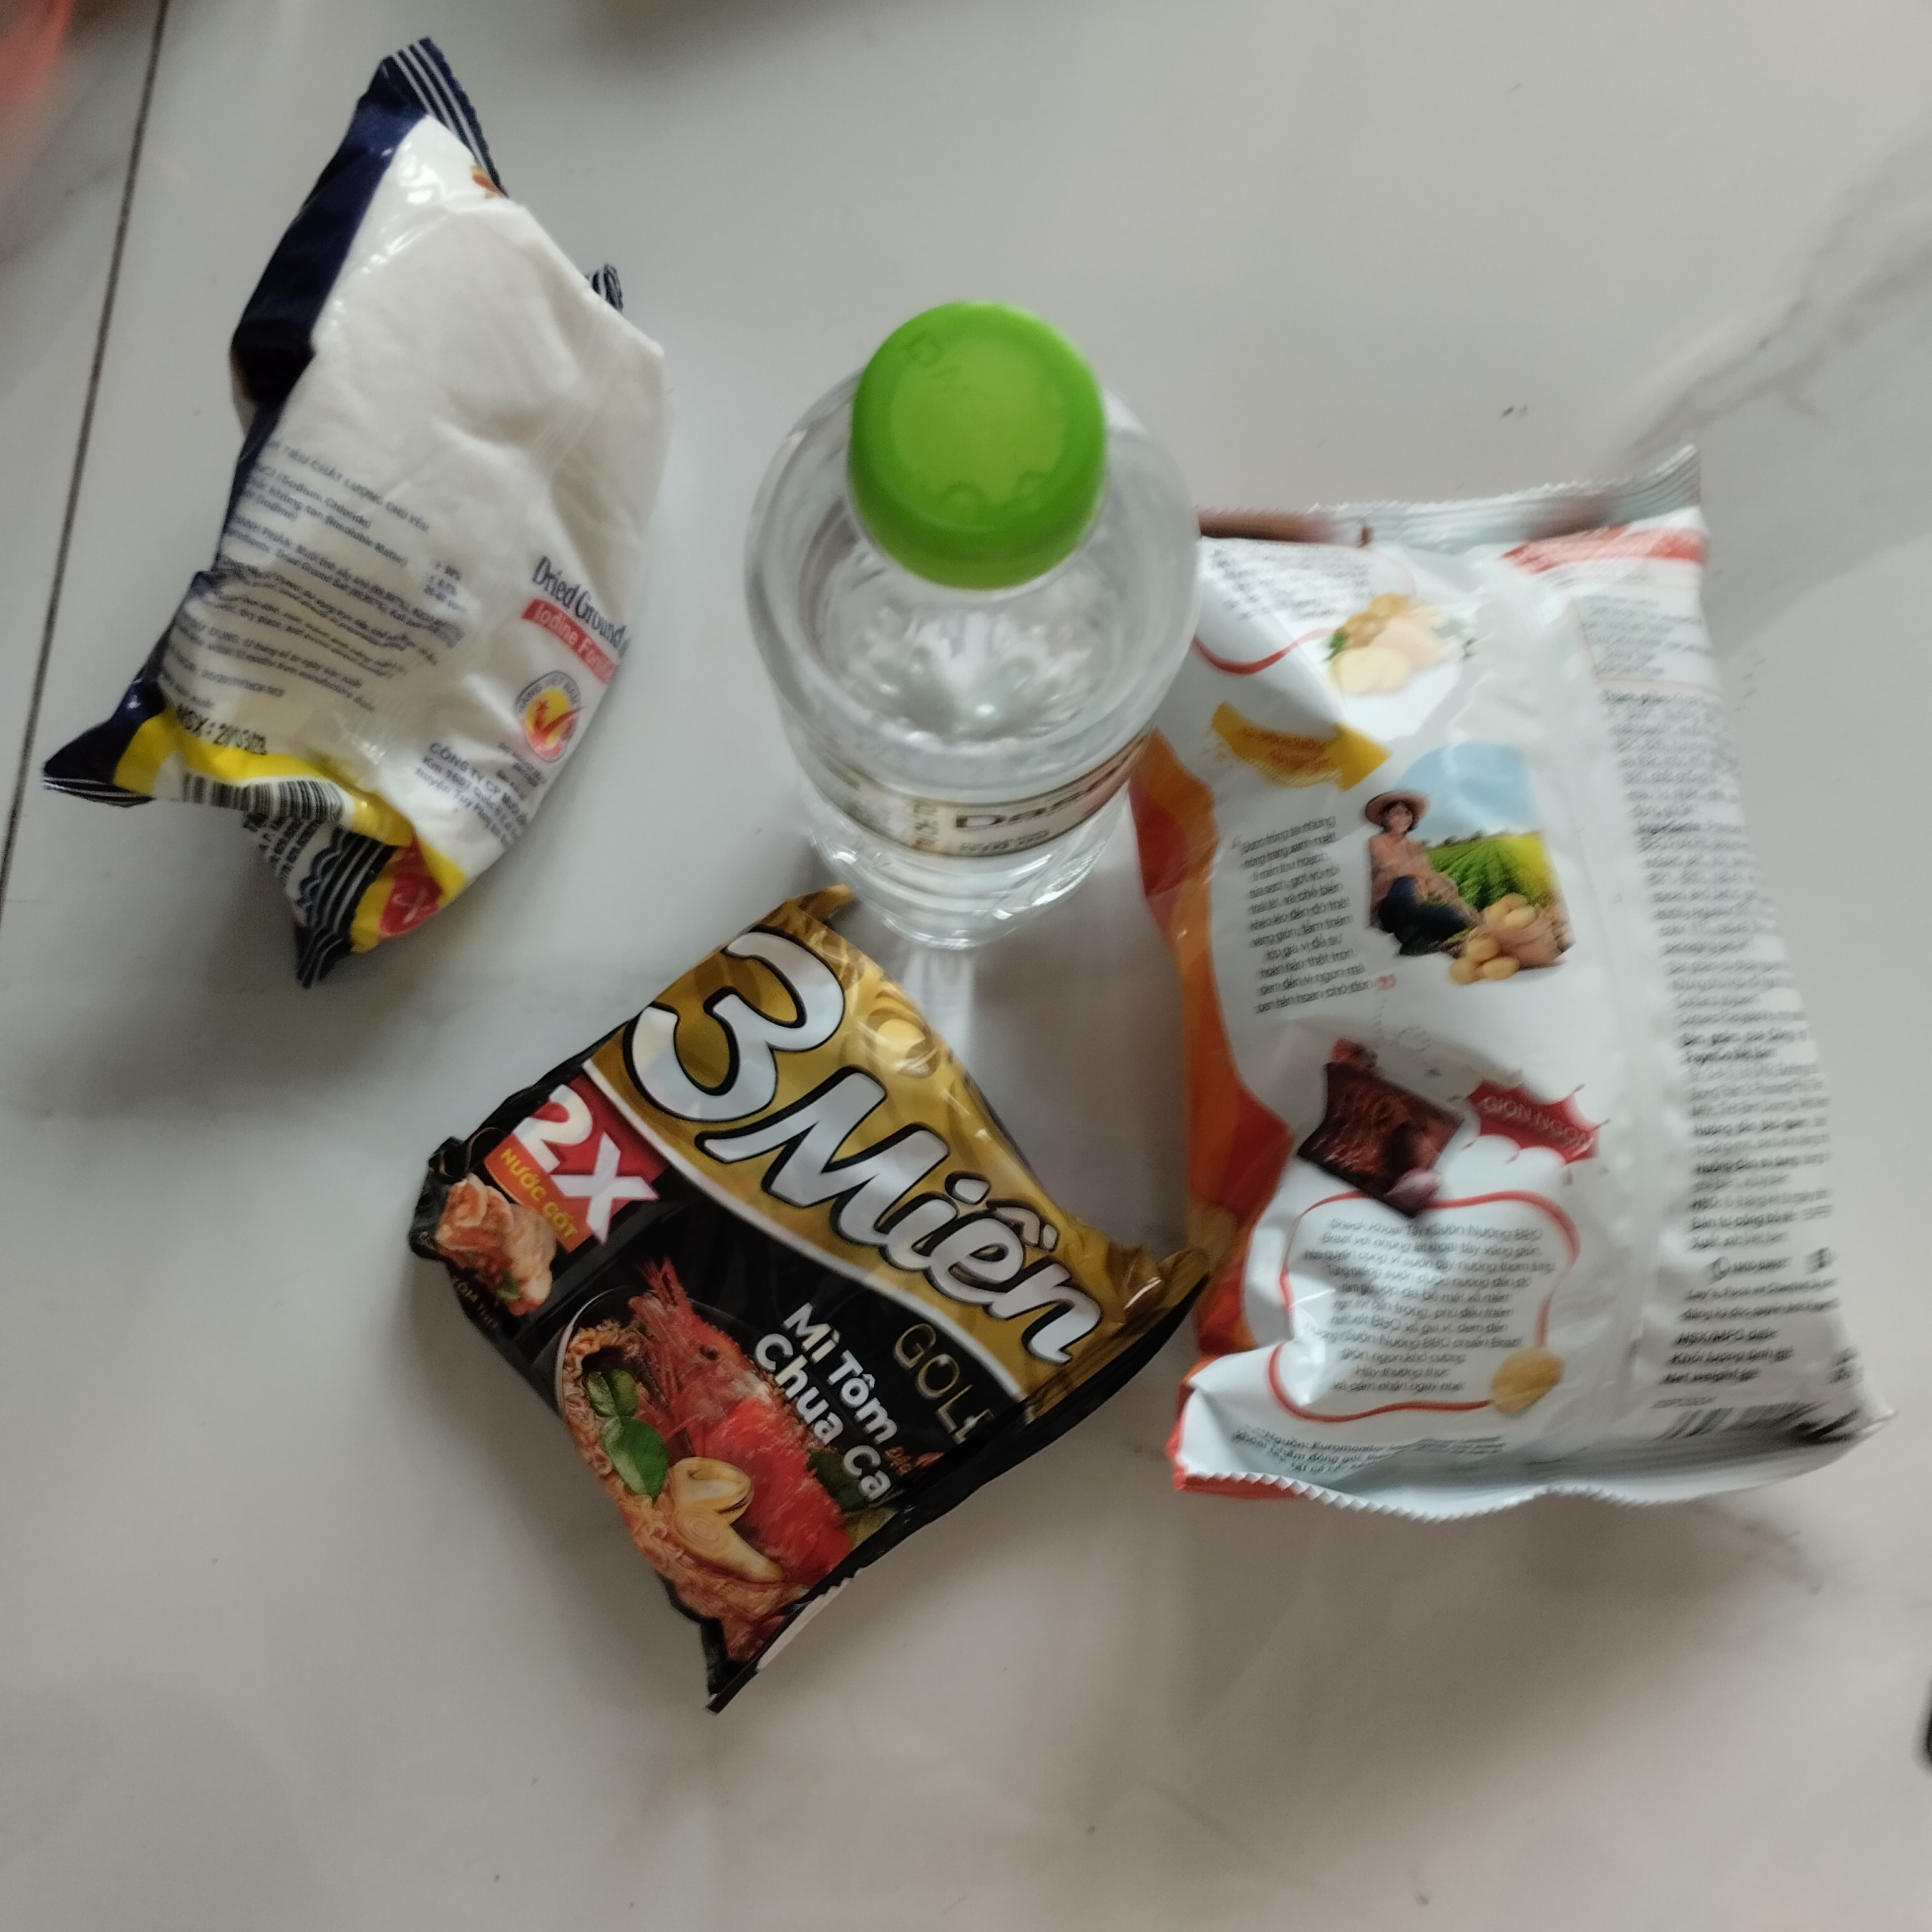3mien: (400, 888, 1214, 1727)
Dasani: (752, 297, 1217, 954)
Lays: (1106, 439, 1914, 1520)
Salt: (37, 41, 669, 991)
